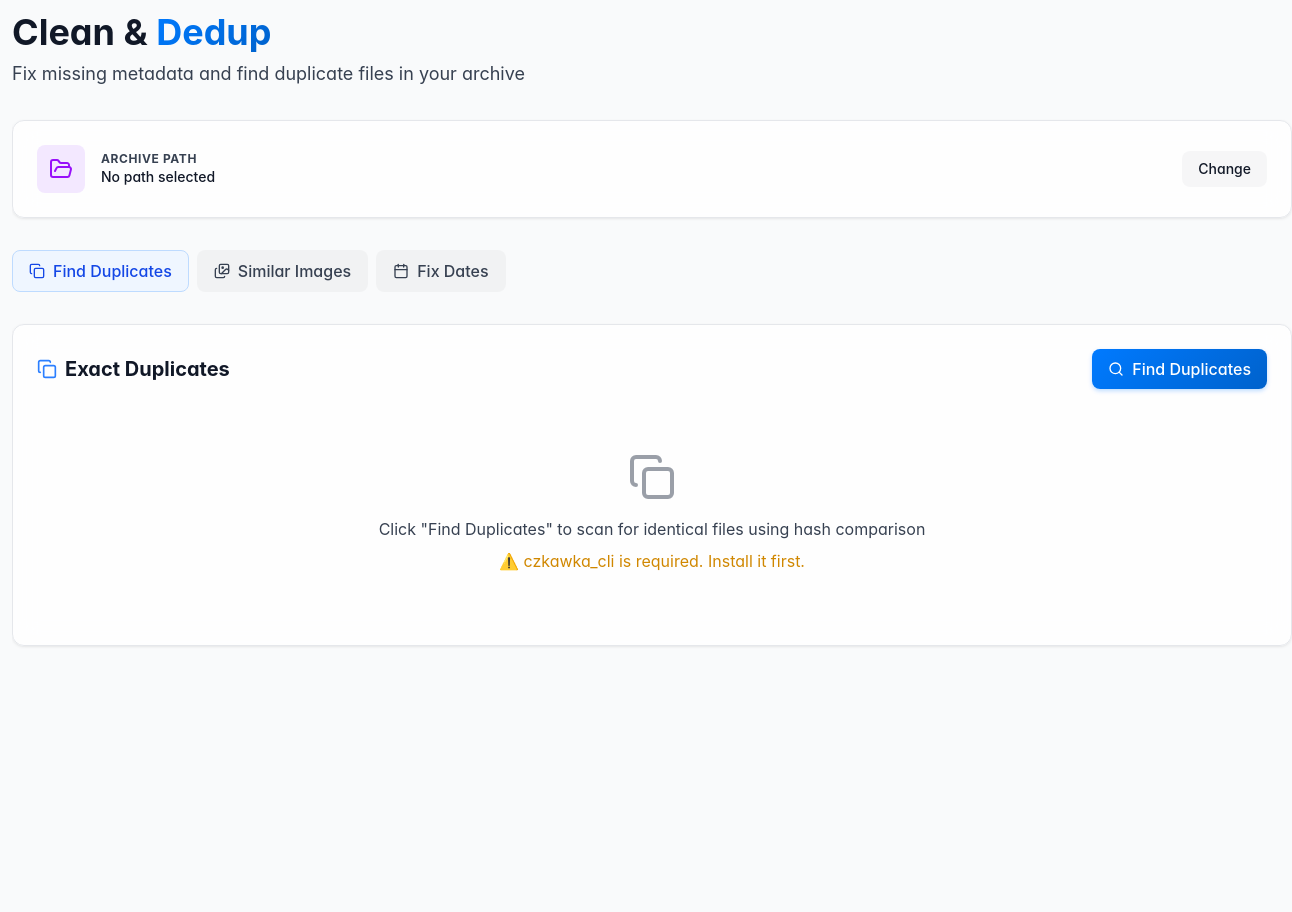
Test: Clean Page › displays metadata scan results
Note: Switch to Fix Dates
Click the button "Fix Dates": (441, 271) [376,250,506,292]
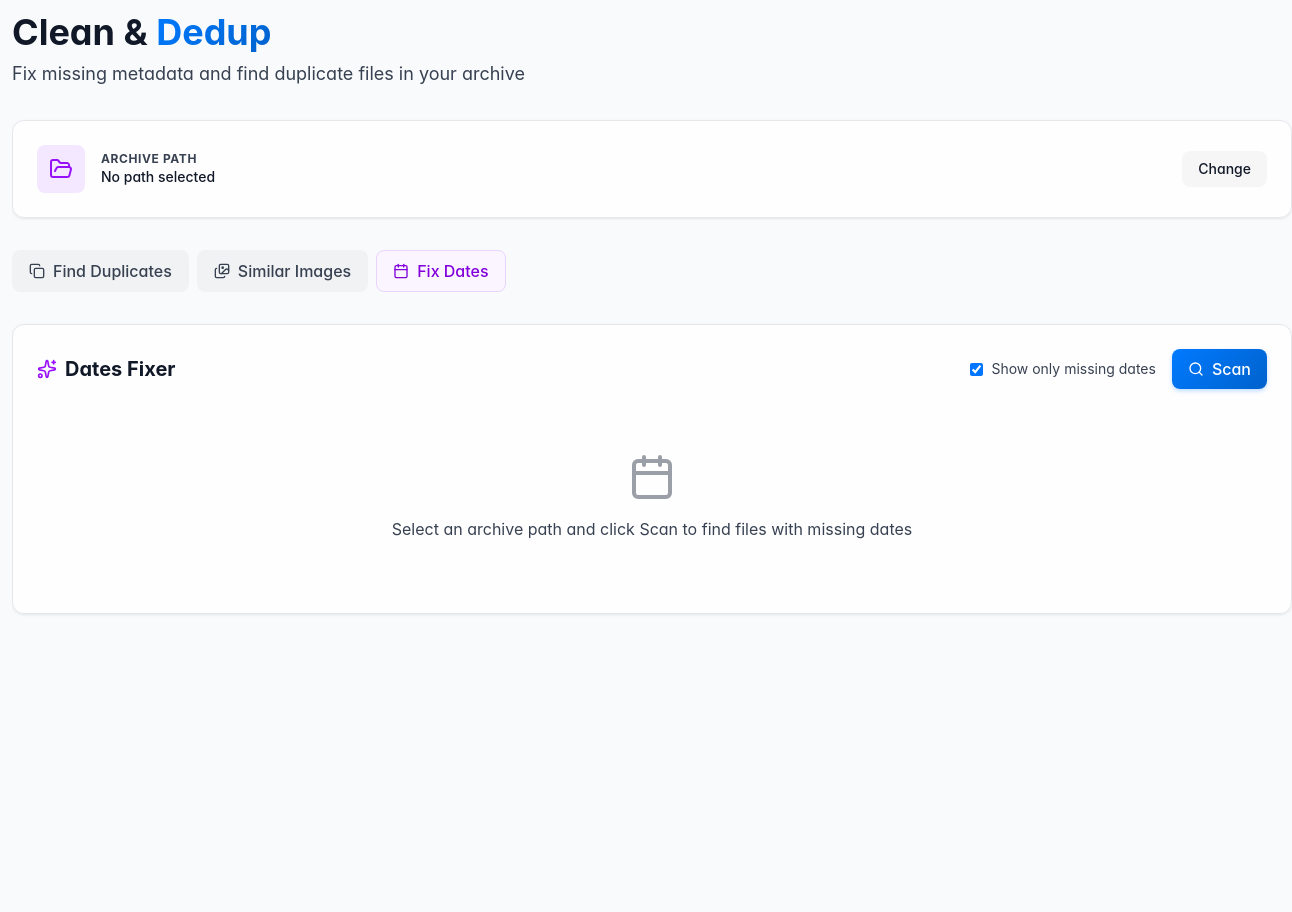
Note: Select path
Click the button "Change": (1225, 169) [1182,151,1267,187]
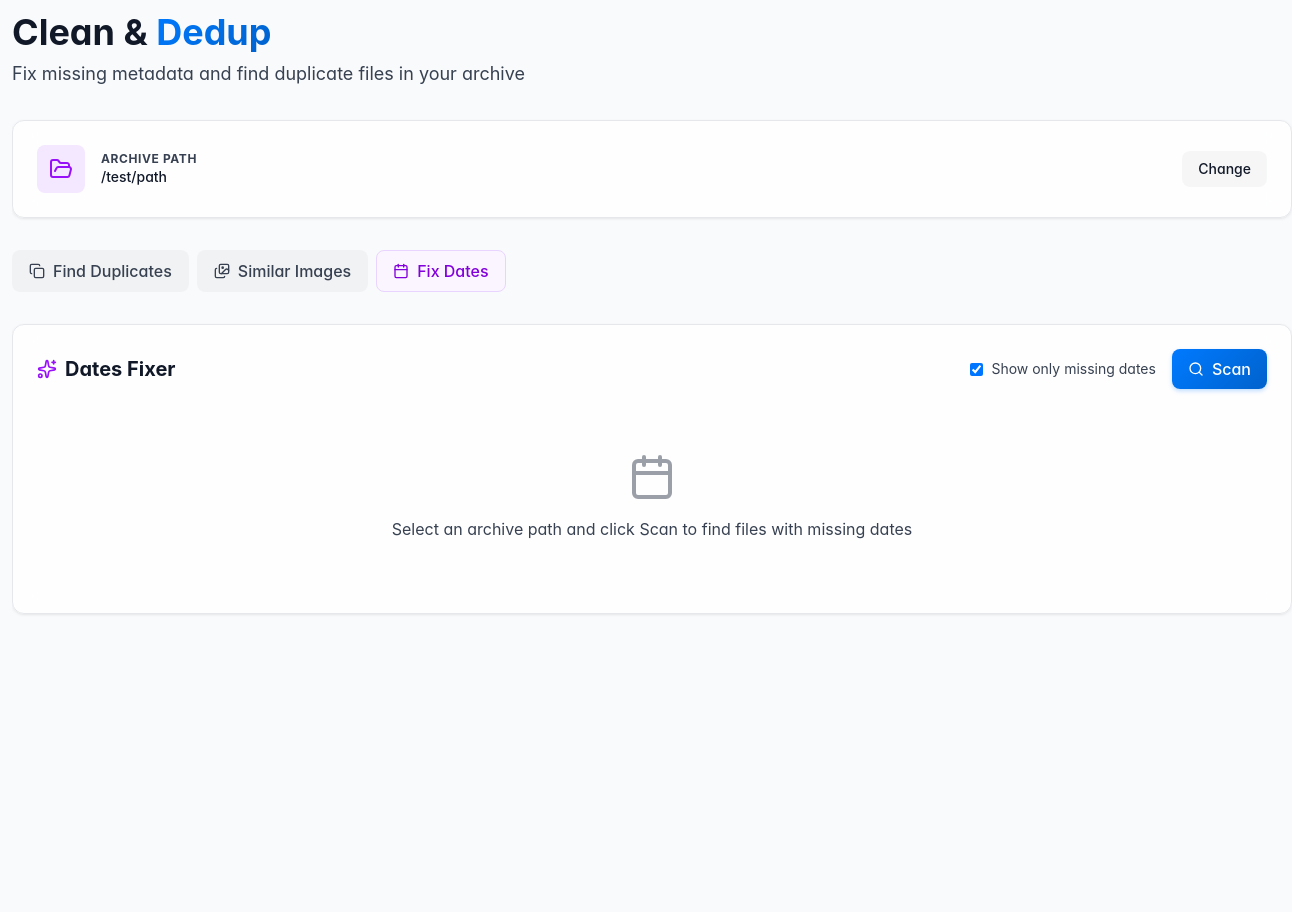
Check: the text "/test/path" is shown, box [101,168,167,185]
Click the button "Scan": (1219, 369) [1172,349,1267,389]
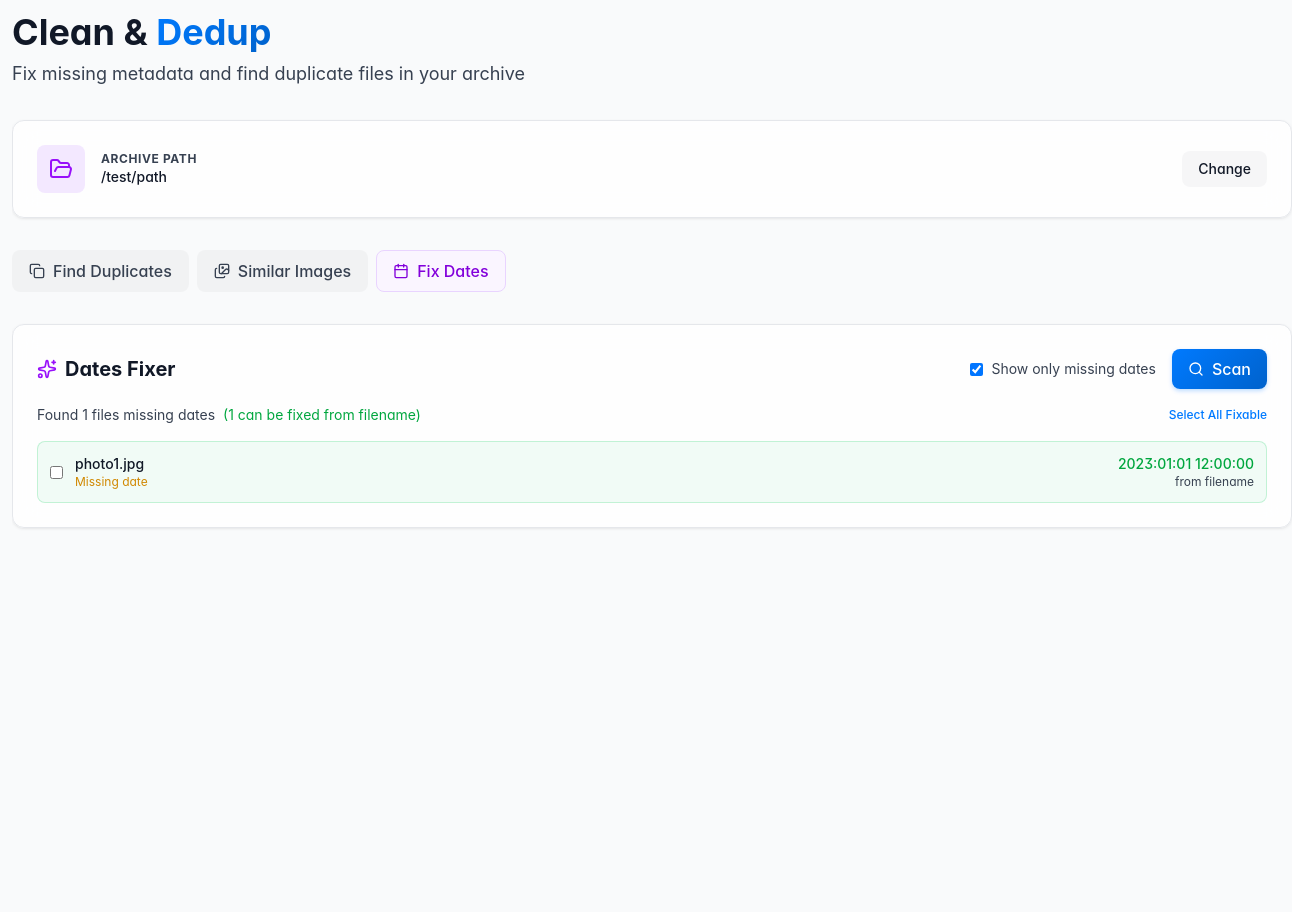
Check: the text "photo1.jpg" is shown, box [75,455,144,472]
Check: the text "2023:01:01 12:00:00" is shown, box [1118,454,1254,474]
